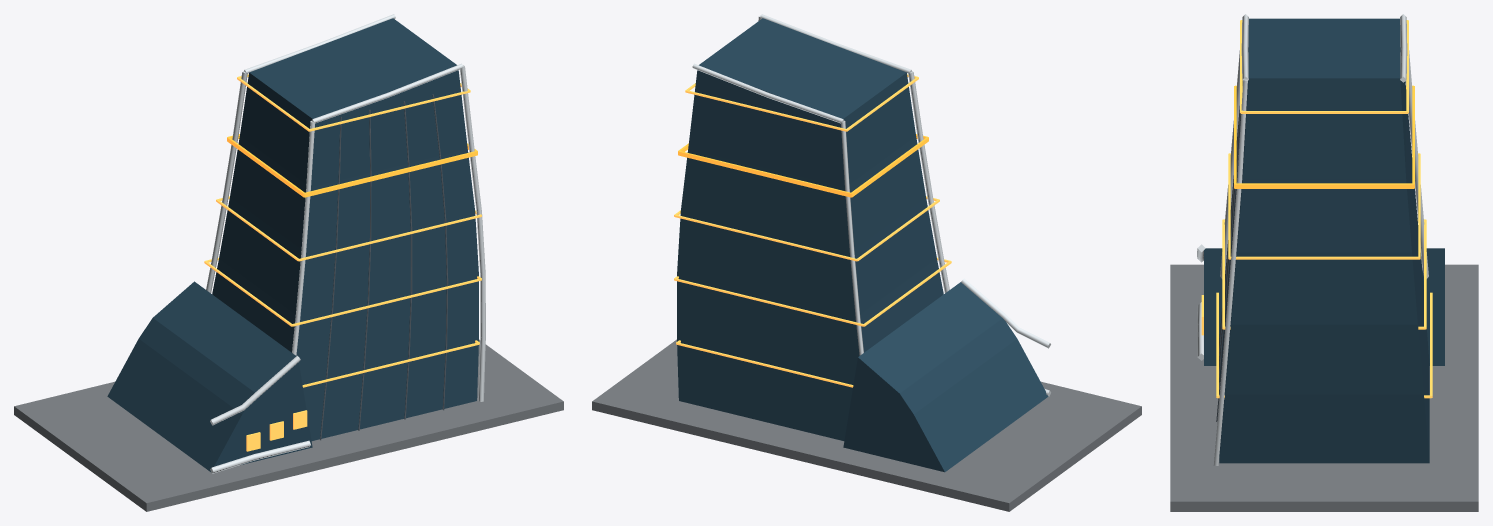
Rendered from Model_ Stage 04 .glb.
3 views of the same model, side by side, from view 1: azimuth 30°, elevation 25°; view 2: azimuth 150°, elevation 25°; view 3: azimuth 270°, elevation 25° (orthographic). The views are drawn at different scales.
Parts seen in each view (by area): view 1: SailTowerGlassShell, SailFoundation.003, SweepingPodiumGlass.001, SignatureWhiteTowerRibbon, SailWarmFloorBands, FacadeMullions, SailSkyLobbyBands, PodiumWhiteRibbon.001, PodiumWindows.001; view 2: SailTowerGlassShell, SweepingPodiumGlass.001, SailFoundation.003, SignatureWhiteTowerRibbon, SailWarmFloorBands, SailSkyLobbyBands, PodiumWhiteRibbon.001; view 3: SailTowerGlassShell, SailFoundation.003, SignatureWhiteTowerRibbon, SweepingPodiumGlass.001, SailWarmFloorBands, SailSkyLobbyBands, FacadeMullions, PodiumWhiteRibbon.001.
Part boxes in pixels (box(x1,y1,x2,y2)): SailTowerGlassShell: box(212, 18, 478, 440); SailFoundation.003: box(14, 339, 563, 511); SweepingPodiumGlass.001: box(107, 281, 312, 471); SignatureWhiteTowerRibbon: box(206, 14, 485, 401); SailWarmFloorBands: box(204, 74, 481, 387); FacadeMullions: box(320, 94, 448, 440); SailSkyLobbyBands: box(227, 134, 477, 197); PodiumWhiteRibbon.001: box(210, 355, 310, 473); PodiumWindows.001: box(246, 410, 307, 451); SailTowerGlassShell: box(677, 18, 943, 440); SweepingPodiumGlass.001: box(843, 282, 1048, 472); SailFoundation.003: box(592, 339, 1141, 511); SignatureWhiteTowerRibbon: box(692, 14, 949, 355); SailWarmFloorBands: box(674, 74, 951, 387); SailSkyLobbyBands: box(678, 134, 928, 197); PodiumWhiteRibbon.001: box(961, 278, 1050, 396); SailTowerGlassShell: box(1219, 18, 1429, 463); SailFoundation.003: box(1170, 264, 1478, 511); SignatureWhiteTowerRibbon: box(1213, 14, 1428, 465); SweepingPodiumGlass.001: box(1204, 248, 1444, 365); SailWarmFloorBands: box(1216, 20, 1432, 398); SailSkyLobbyBands: box(1234, 85, 1414, 188); FacadeMullions: box(1216, 80, 1242, 421); PodiumWhiteRibbon.001: box(1197, 244, 1205, 360).
Bounding box in the file's own units: 20 × 15.57 × 11.
